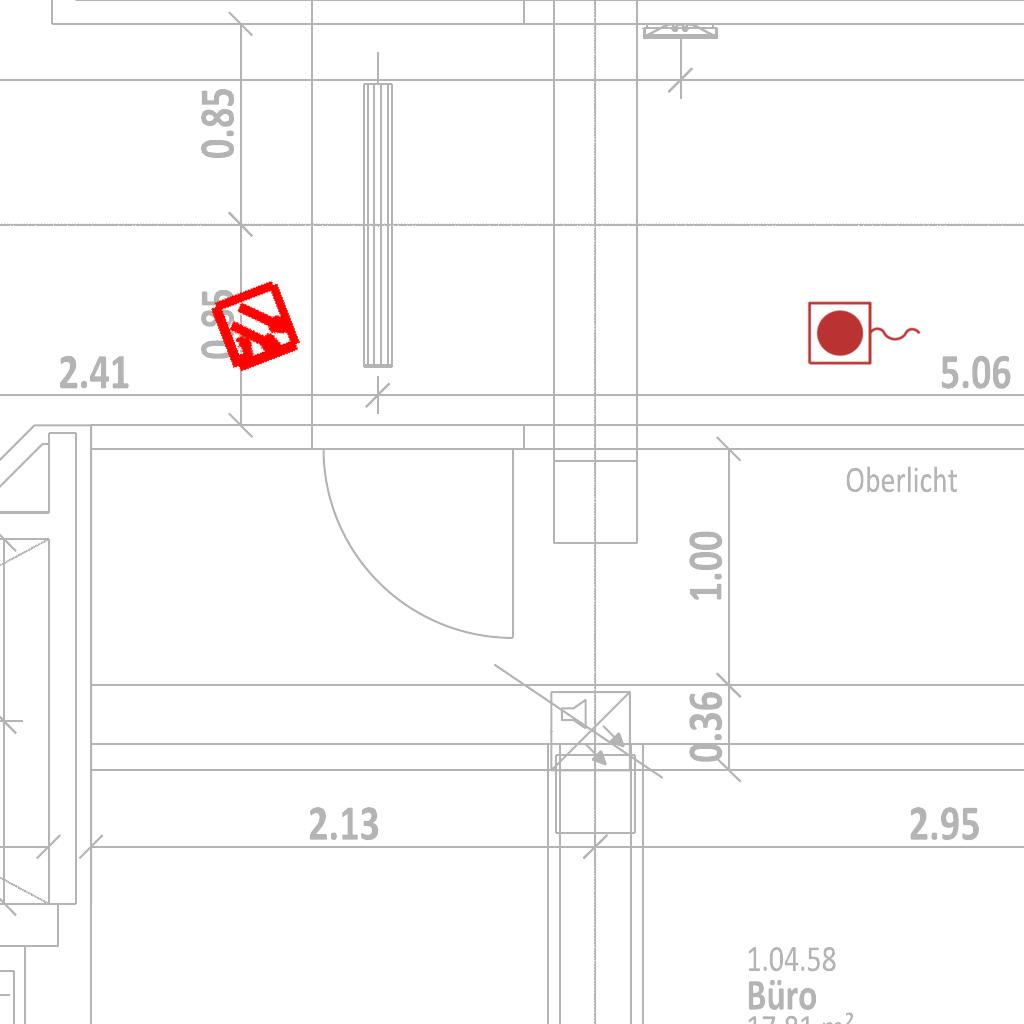OT_Multisensormelder_(Kombination_RMO_WMD): (183, 255, 330, 402)
Zugtaster: (804, 298, 926, 370)
